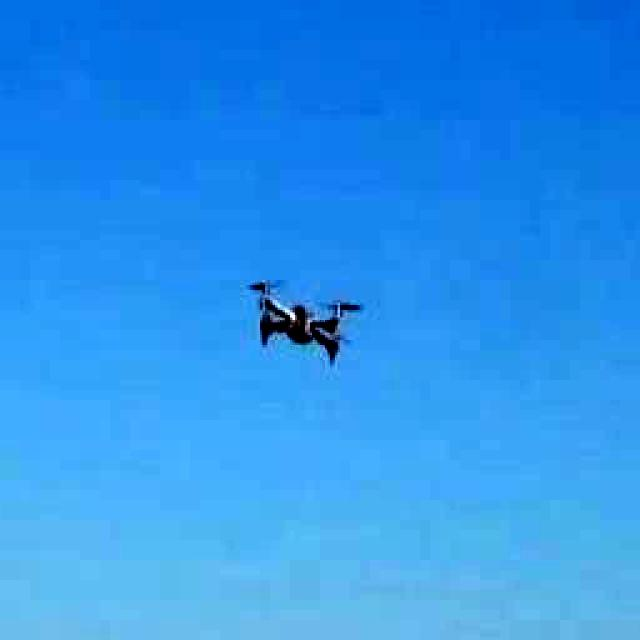bird: (221, 232, 374, 392)
